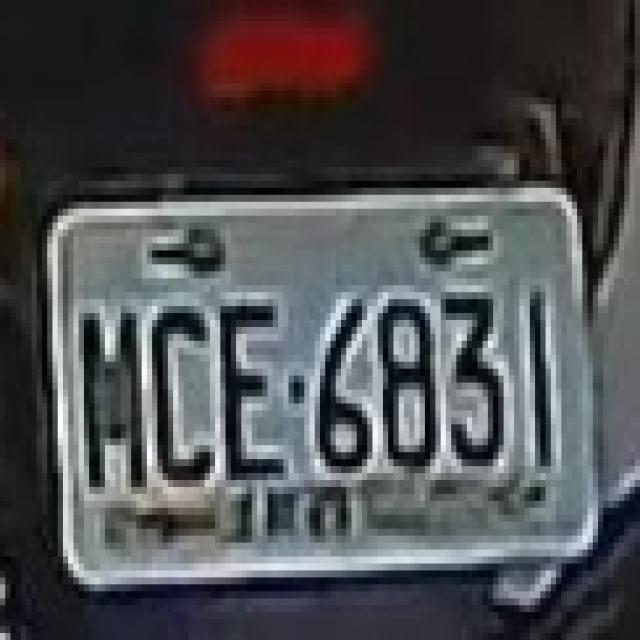license-plate: (39, 185, 603, 584)
